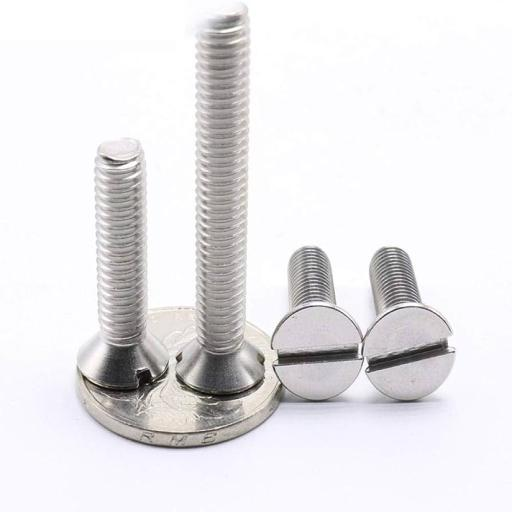Slotted: (274, 303, 361, 405), (365, 310, 455, 406)
